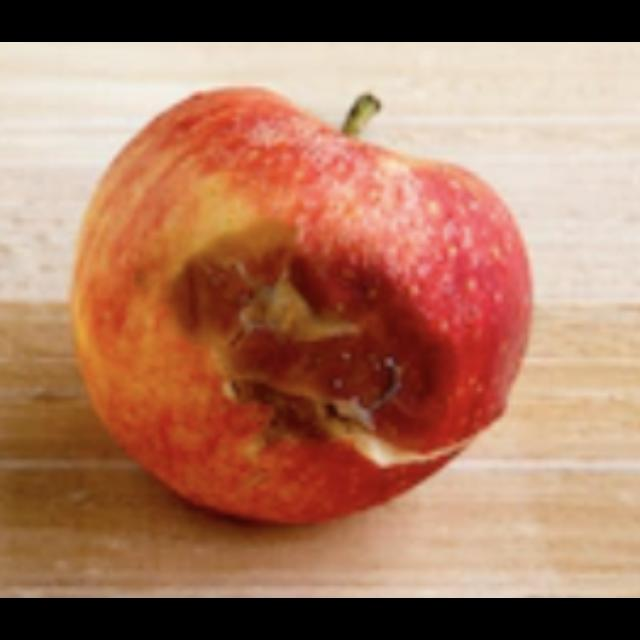Apel Tidak Segar: (66, 87, 534, 537)
